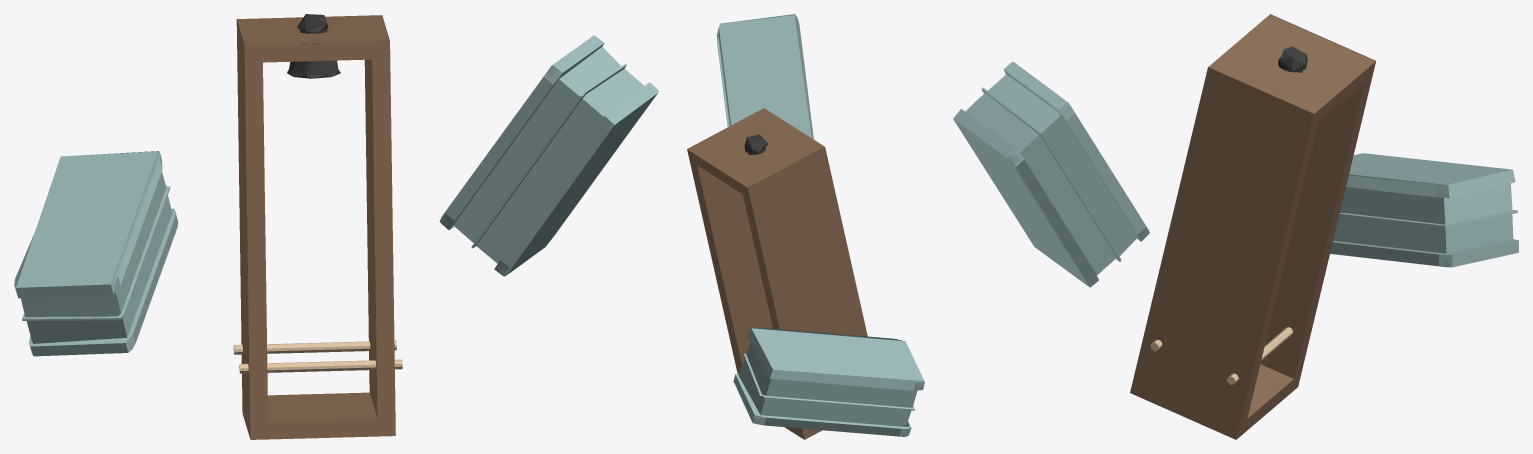
Rendered from ambience-of-light-low-poly.gltf.
The picture shows the model from 3 angles, left to right: view 1: azimuth 30°, elevation 25°; view 2: azimuth 150°, elevation 25°; view 3: azimuth 270°, elevation 25°; orthographic projection. The views are drawn at different scales.
Visible parts, largest first — view 1: frame, glassBrick01, glassBrick02; view 2: frame, glassBrick01, glassBrick02; view 3: frame, glassBrick02, glassBrick01.
Part boxes in pixels (x1=…): frame: x1=233, y1=14, x2=402, y2=439; glassBrick01: x1=14, y1=151, x2=178, y2=356; glassBrick02: x1=439, y1=35, x2=658, y2=276; frame: x1=687, y1=108, x2=867, y2=439; glassBrick01: x1=733, y1=327, x2=924, y2=436; glassBrick02: x1=717, y1=14, x2=813, y2=139; frame: x1=1130, y1=14, x2=1375, y2=439; glassBrick02: x1=953, y1=61, x2=1149, y2=287; glassBrick01: x1=1330, y1=153, x2=1518, y2=267.
Size of the model in its own units: 4.39 by 3.83 by 4.89.
